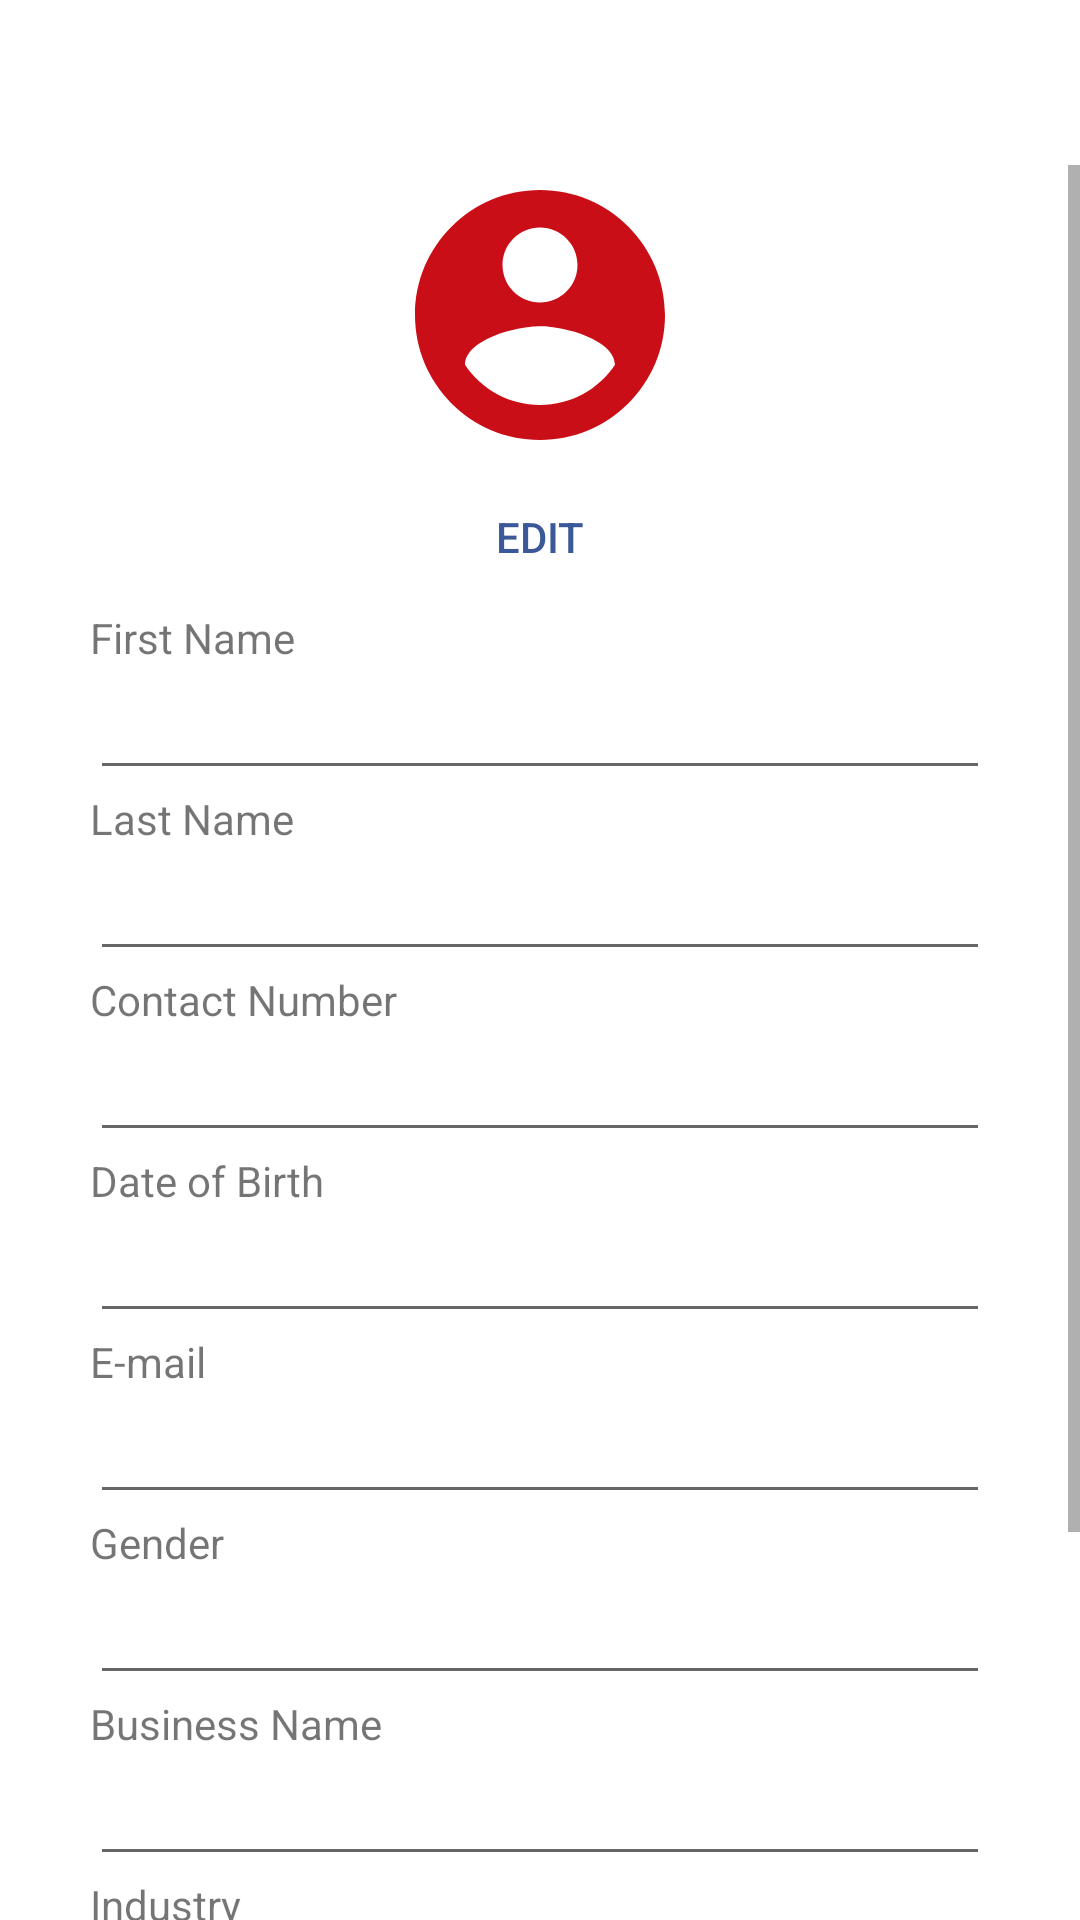

Where to tap for icons on this 1080 × 1920 app screen, as (x=x, y=y):
account circle: (x=540, y=315)
